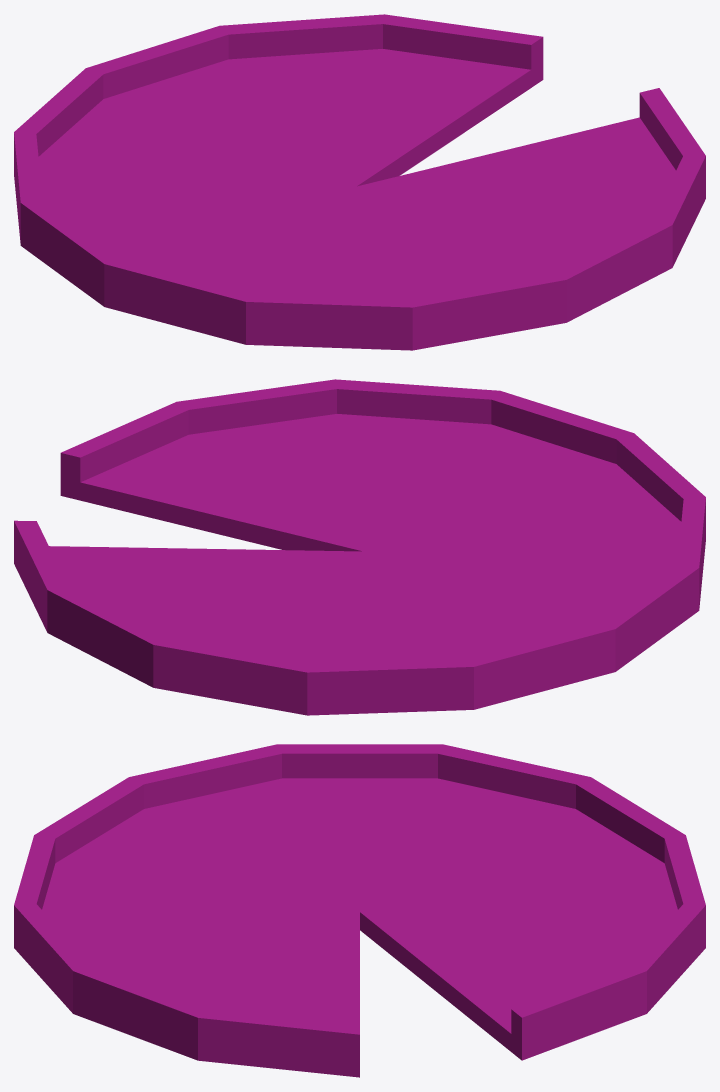
Rendered from Nenufaro.fbx.
3 views of the same model, one above another, from view 1: azimuth 30°, elevation 25°; view 2: azimuth 150°, elevation 25°; view 3: azimuth 270°, elevation 25° (orthographic).
Visible parts, largest first — view 1: Cylinder001; view 2: Cylinder001; view 3: Cylinder001.
Part boxes in pixels (box(x1,y1,x2,y2)): Cylinder001: box(14, 14, 705, 350); Cylinder001: box(14, 379, 705, 715); Cylinder001: box(14, 744, 705, 1077).
Size of the model in its own units: 31.38 by 2.16 by 31.61.
